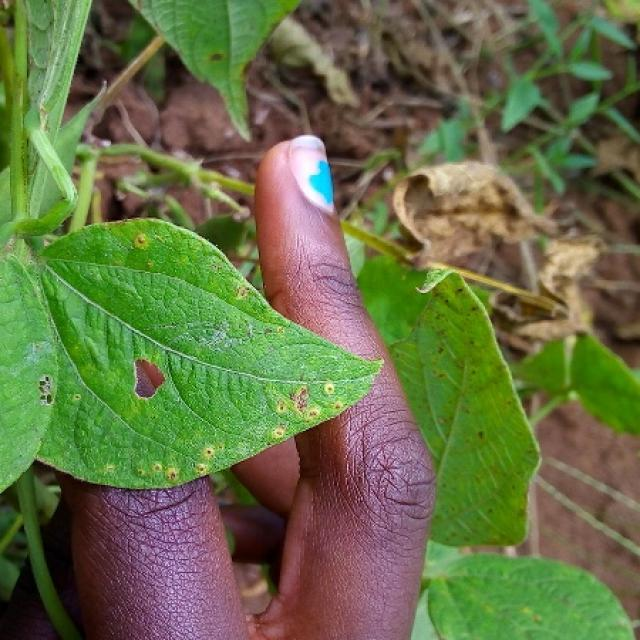mozaik: (92, 328, 190, 424)
